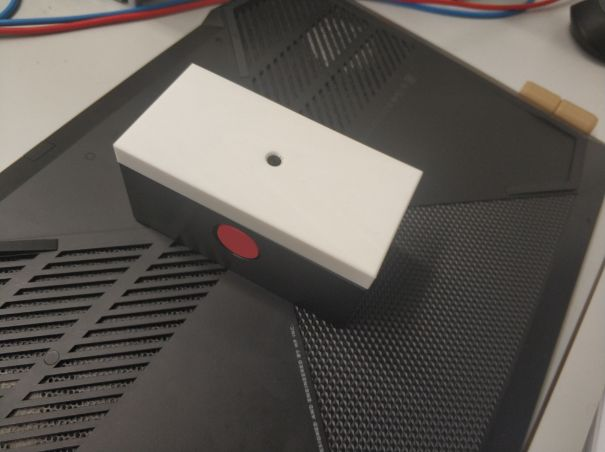white+black+red: (110, 58, 428, 335)
